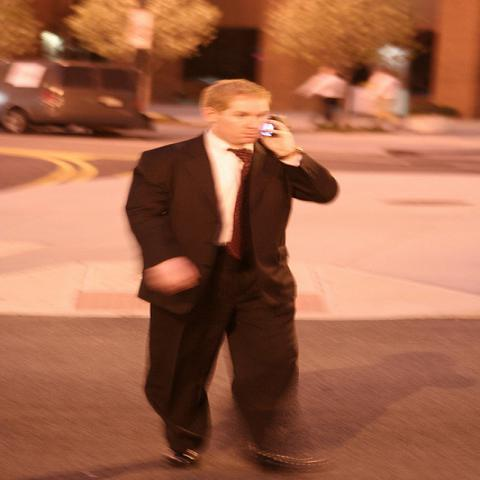car: (4, 54, 147, 134)
